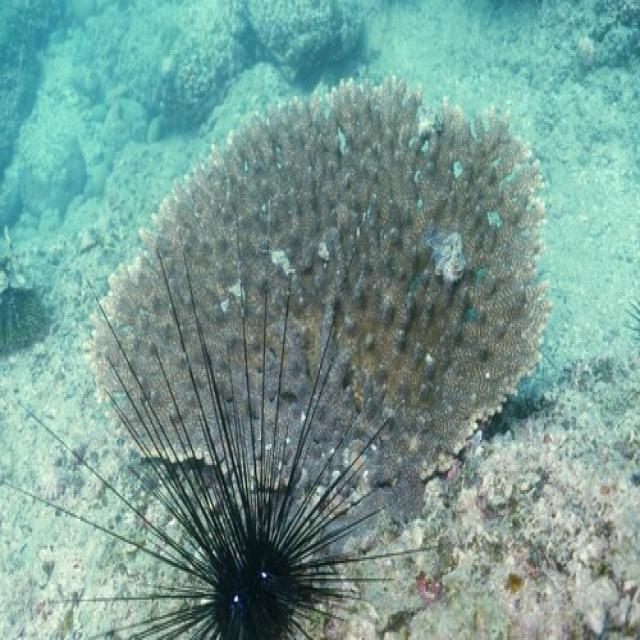Urchin: (2, 236, 440, 640)
